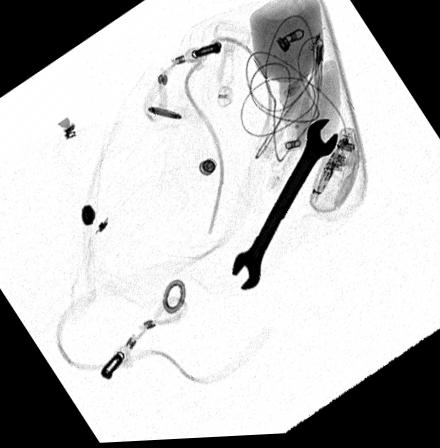Wrench: (232, 117, 339, 293)
